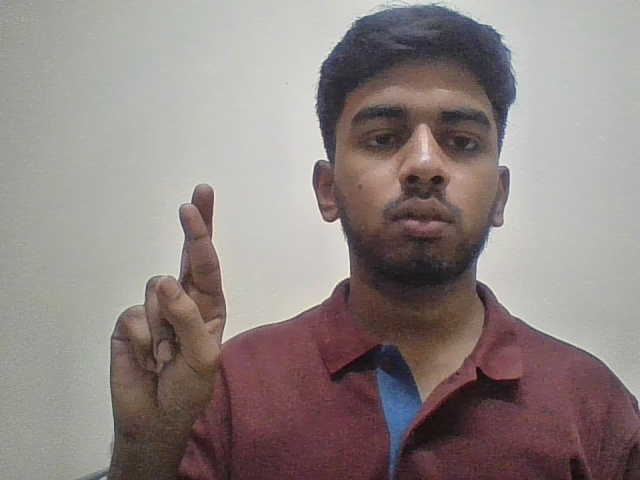R: (89, 173, 251, 447)
